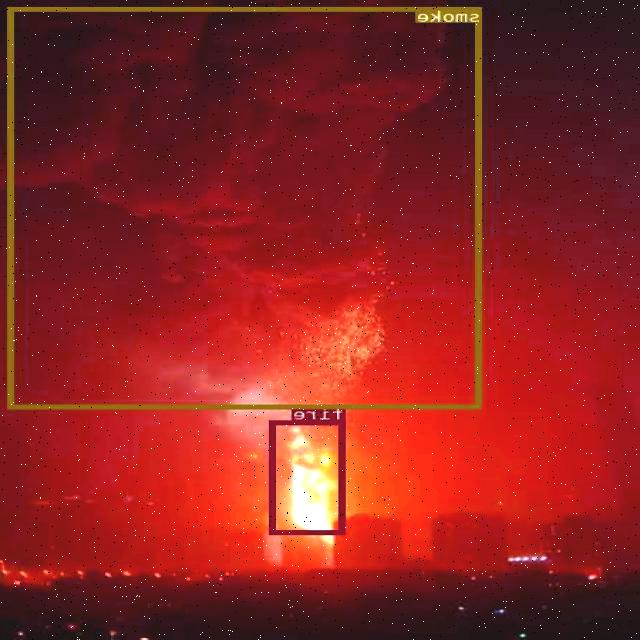fire: (271, 420, 346, 534)
smoke: (9, 6, 484, 408)
